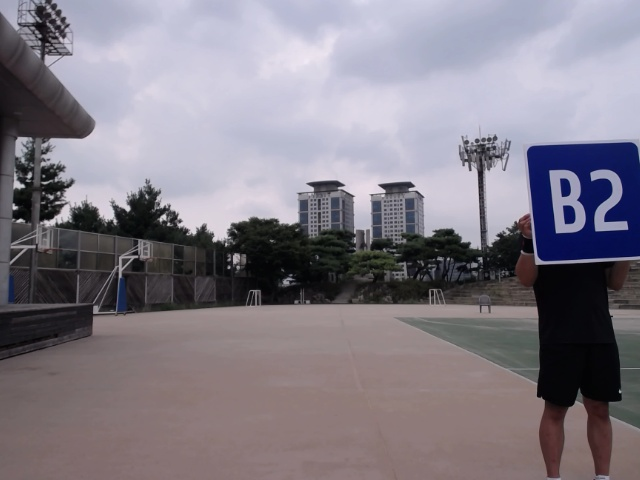delivery_b2: (523, 142, 639, 262)
